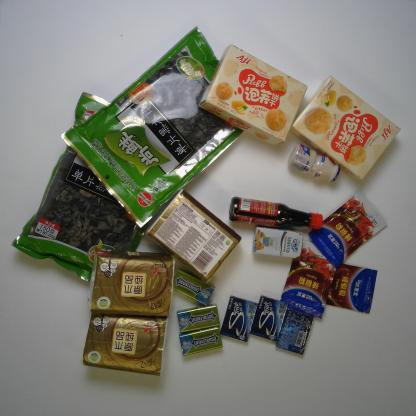Dessert: (292, 75, 402, 180), (198, 44, 308, 146)
Dried Food: (59, 25, 245, 228), (10, 92, 147, 282)
Gum: (250, 295, 289, 342), (276, 309, 315, 355), (220, 295, 258, 342), (172, 268, 216, 306), (176, 302, 221, 334), (179, 326, 223, 356)
Milk: (288, 144, 340, 182), (252, 226, 304, 259)
Seasoner: (308, 193, 387, 268), (280, 240, 337, 320), (228, 196, 323, 230), (326, 262, 378, 314)
Tissue: (146, 188, 242, 285), (87, 249, 175, 317), (82, 312, 169, 376)
